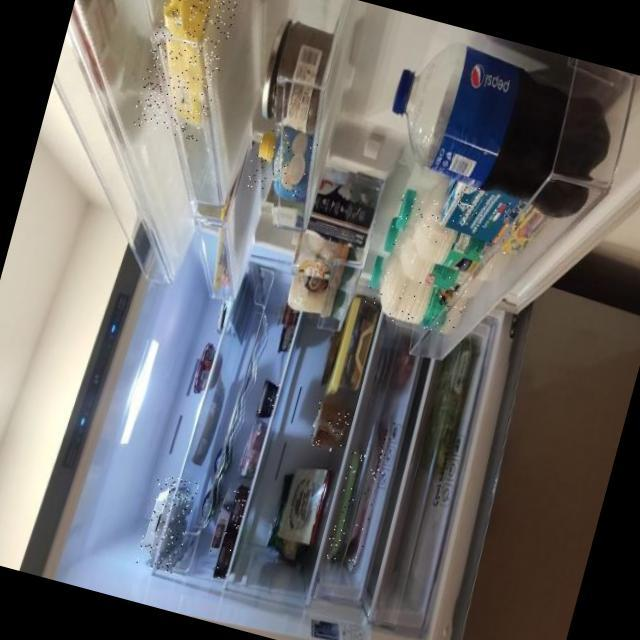Huevos: (134, 471, 199, 574)
Limón: (244, 123, 319, 201)
Mantequilla: (130, 0, 246, 141), (199, 180, 247, 299)
Queso: (308, 399, 353, 453)
Yogur: (213, 482, 252, 582), (206, 487, 237, 555), (253, 376, 283, 422)
meat: (344, 412, 399, 569), (322, 441, 368, 564)
milk: (375, 216, 510, 299), (387, 191, 506, 274), (360, 256, 471, 337), (432, 176, 530, 258)
